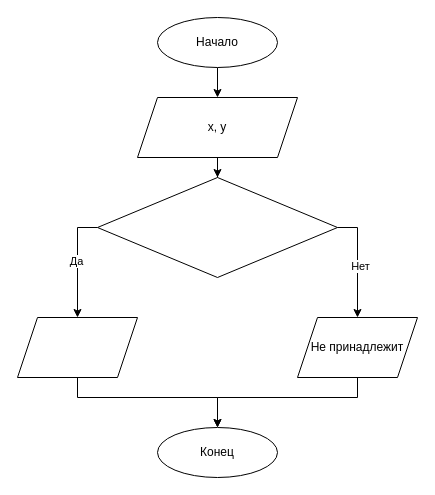
The diagram is 435 pixels wide and 495 high, and some of its shapes have lost their labels. Each missing label, with the centre of its shape:
"y <= x + 4 && y <= -x + 4 && y >= 0" goes at point 217,227.
"Принадлежит" goes at point 77,347.
